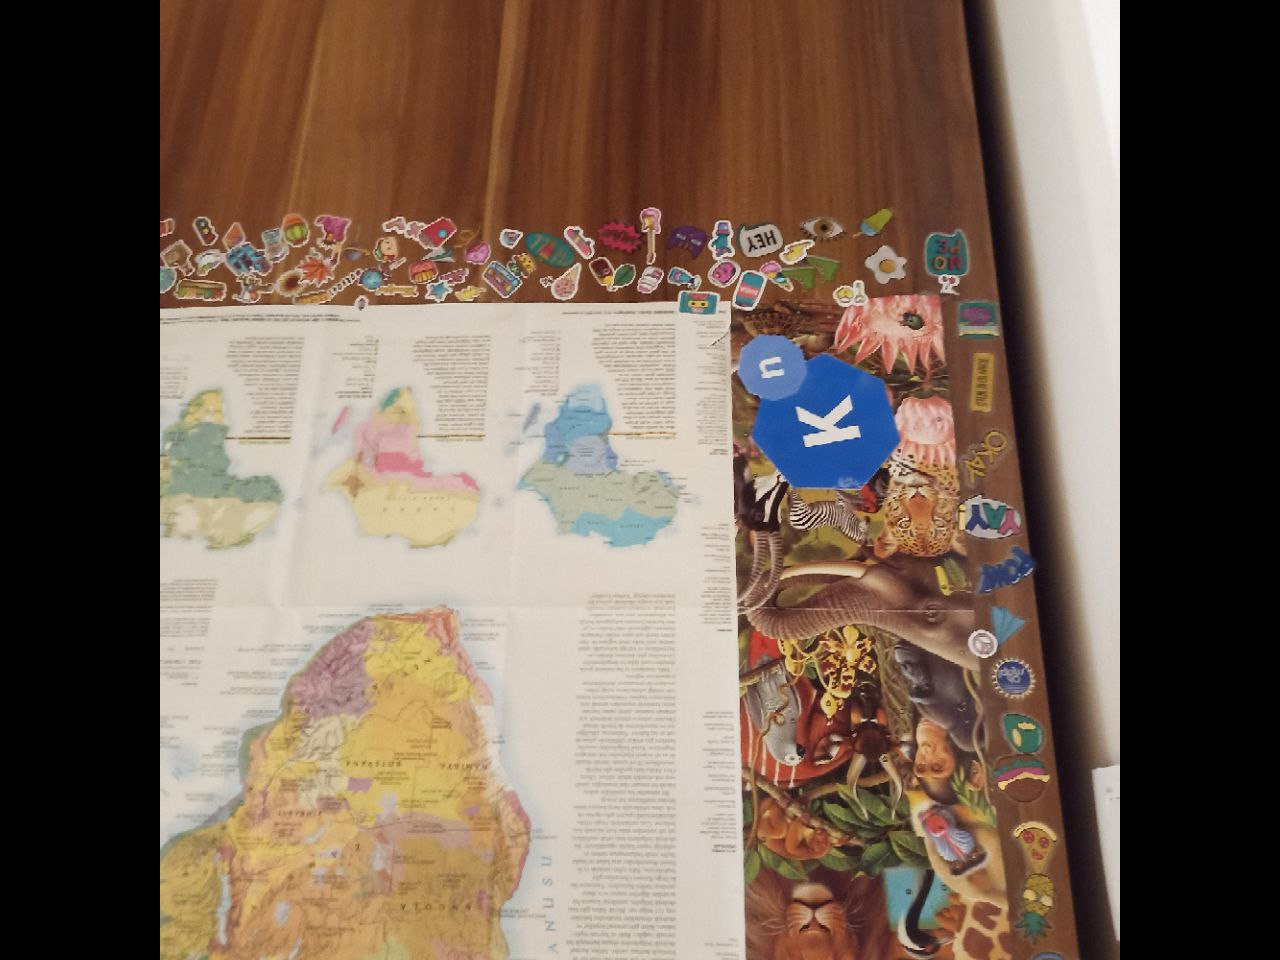knative: (736, 335, 897, 487)
